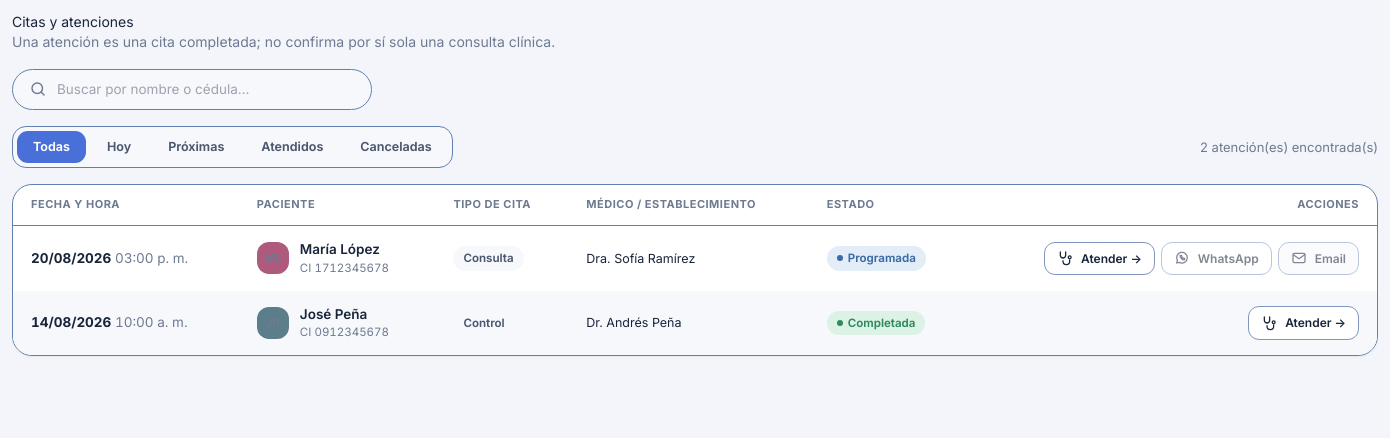
Test: PatientAppointmentsTab search › shows an empty state when the search matches nothing
This screenshot has width=1390, height=438.
Expected: the text "María López" is shown, [300,241,380,257]
Step 1. Type "nadie con este nombre" into the field with placeholder "Buscar por nombre o cédula…" → (206,89), box [57,80,355,99]
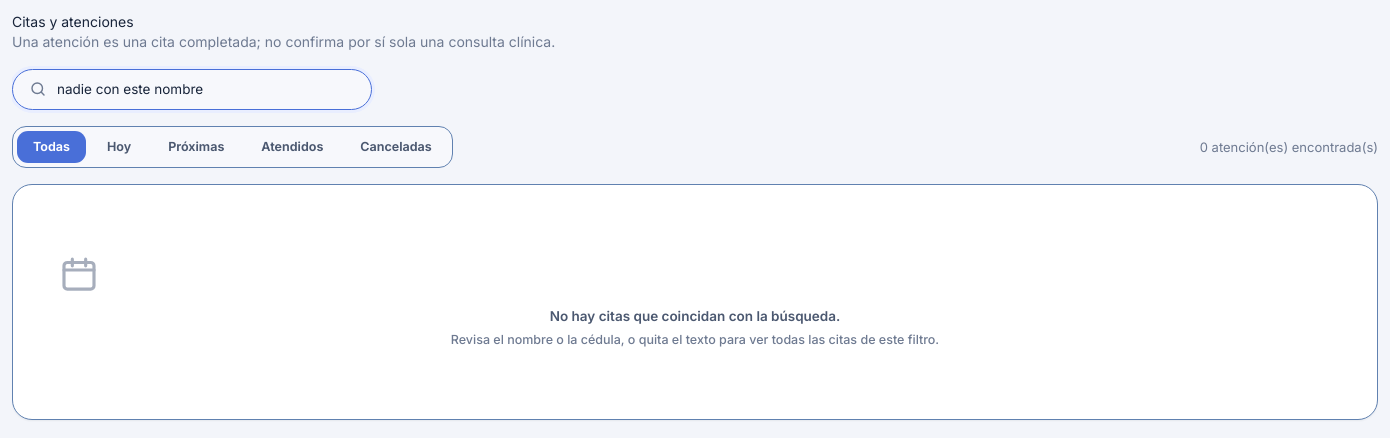
Now the text "No hay citas que coincidan con la búsqueda." is shown, box [550,308,840,324]
